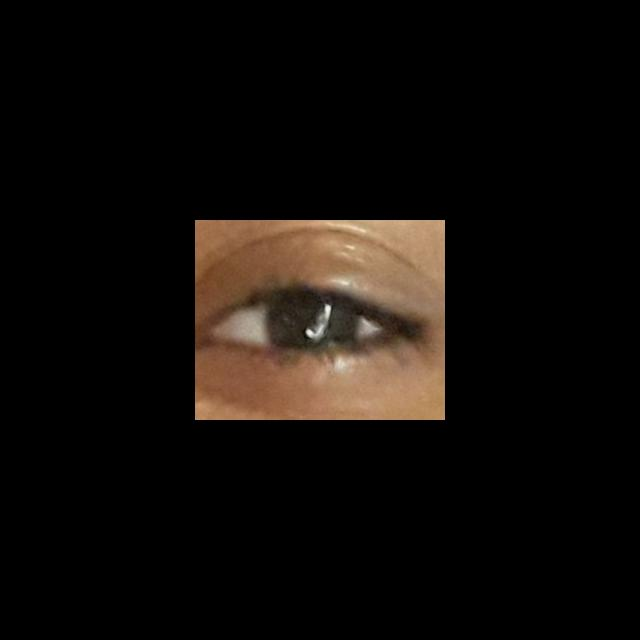eye: (214, 292, 396, 350)
iris: (266, 294, 358, 352)
